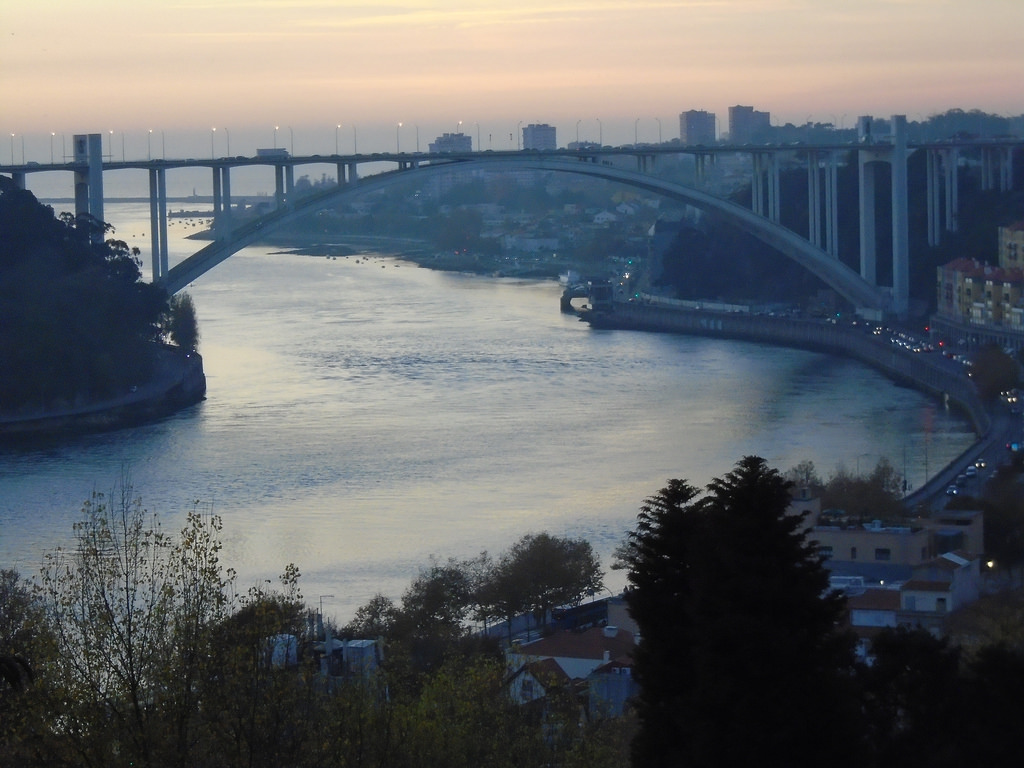arrabida: (0, 111, 1023, 321)
